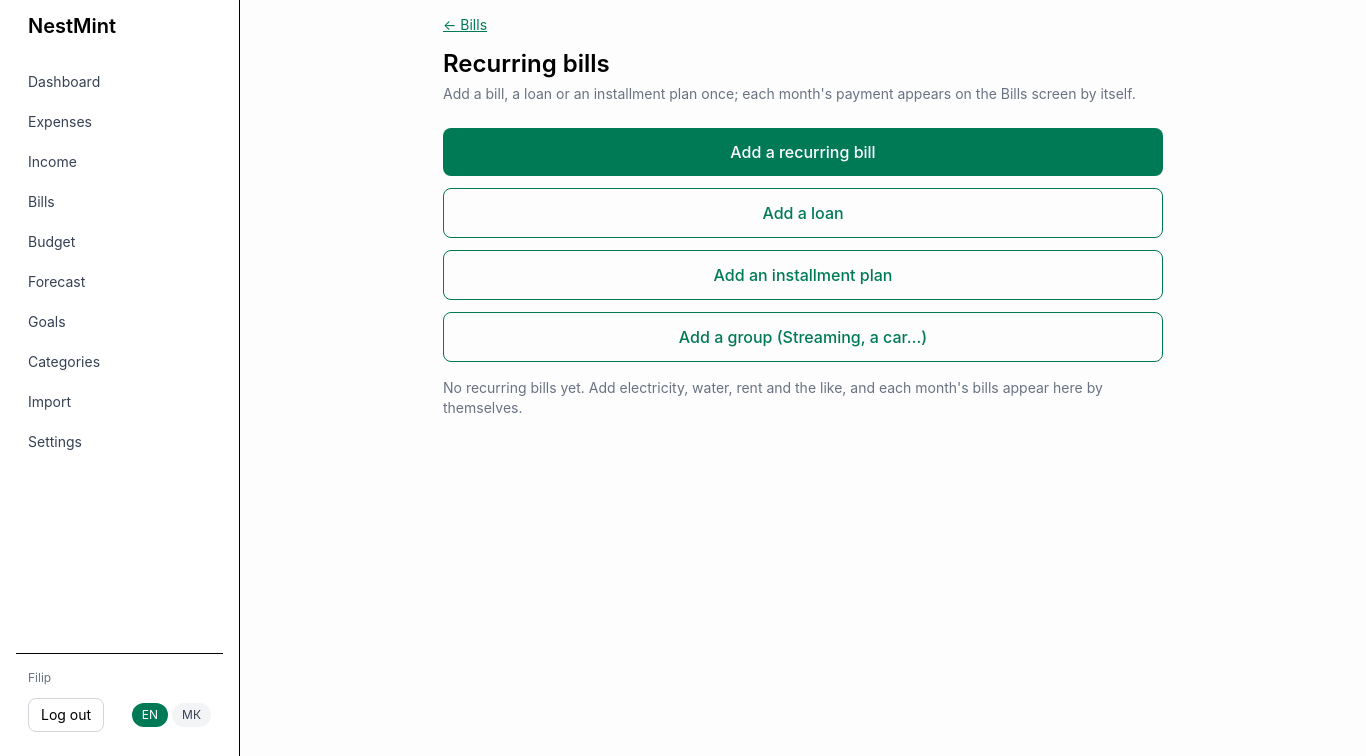
ObligationsPage: adding › shows what is missing and sends nothing
Click the button "Add a recurring bill".
click(803, 152)  # box [443,128,1163,176]
(page scrolled)
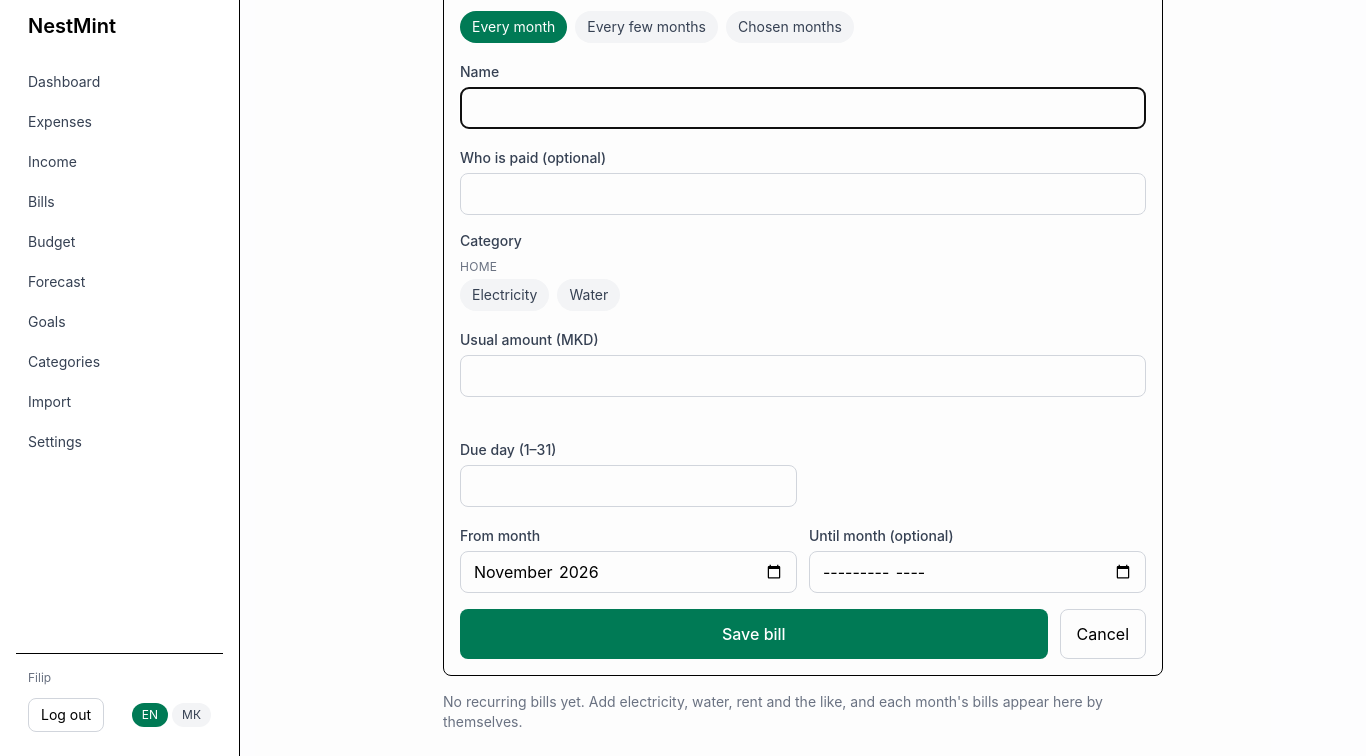
Click the button "Save bill".
click(754, 634)  # box [460,609,1048,659]
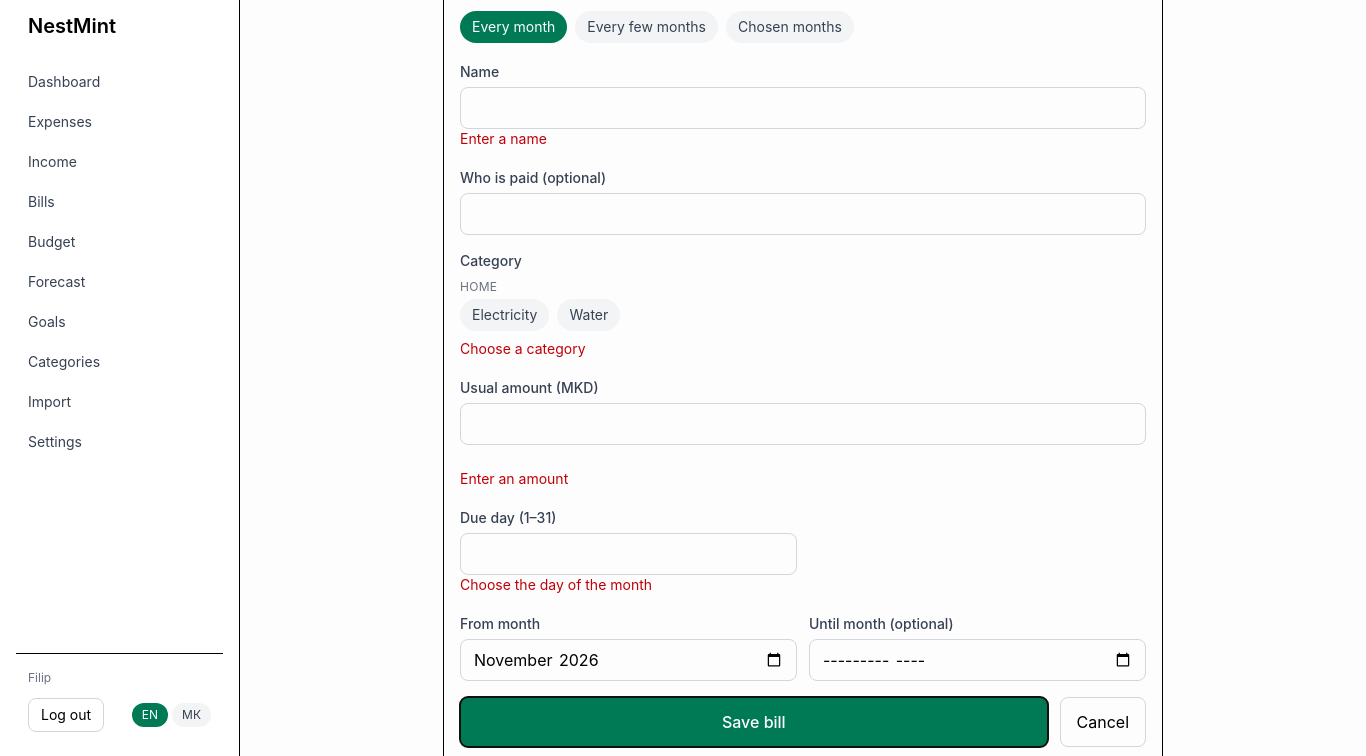
Now the text "Enter a name" is shown, box [460,130,547,147]
Now the text "Choose a category" is shown, box [460,340,586,357]
Now the text "Choose the day of the month" is shown, box [460,576,652,593]
